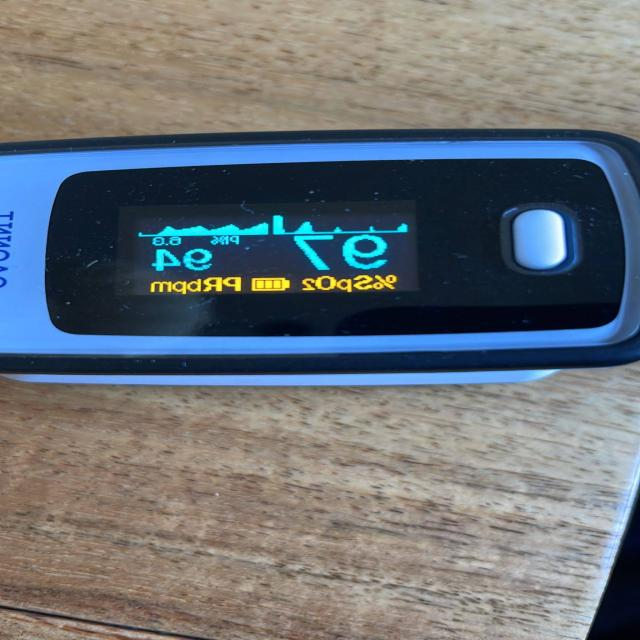spo2: (1, 129, 640, 388)
